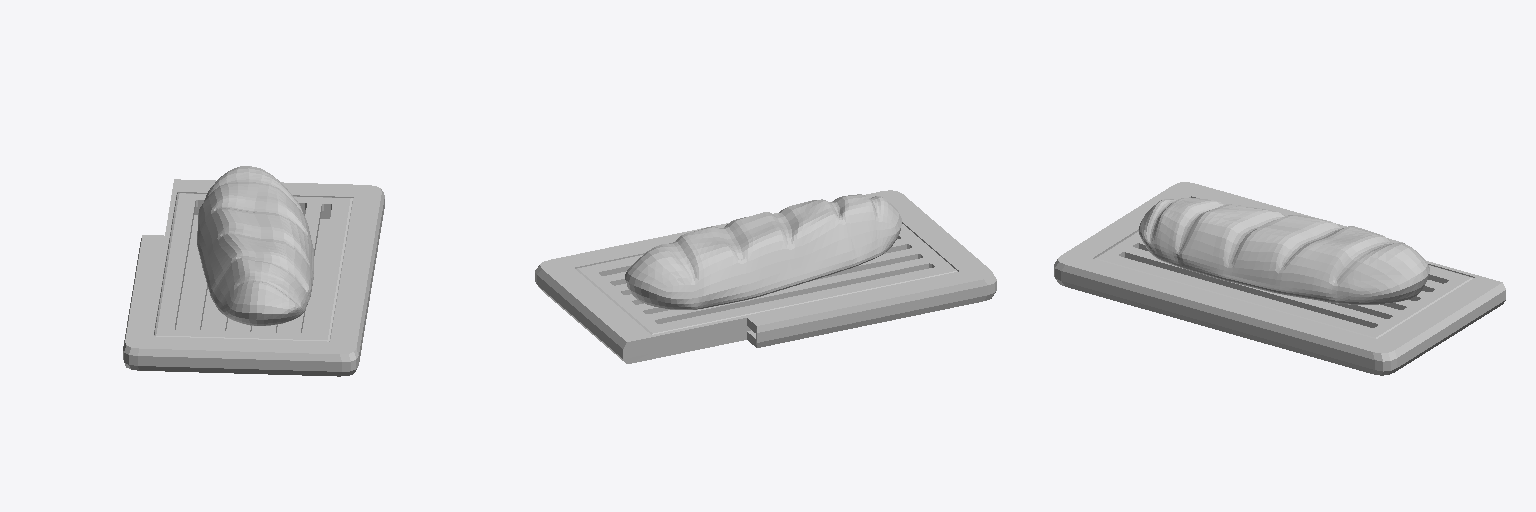
Rendered from bread_french.obj.
The picture shows the model from 3 angles: view 1: azimuth 30°, elevation 25°; view 2: azimuth 150°, elevation 25°; view 3: azimuth 270°, elevation 25°; orthographic projection.
Visible parts, largest first — view 1: cuttingboard.001_Mesh.015, bread.001_Mesh.014, top_of_cutting_board.001_Mesh.016; view 2: cuttingboard.001_Mesh.015, bread.001_Mesh.014, top_of_cutting_board.001_Mesh.016; view 3: bread.001_Mesh.014, cuttingboard.001_Mesh.015, top_of_cutting_board.001_Mesh.016.
Boxes of the visible parts, x1=… form: cuttingboard.001_Mesh.015: x1=123, y1=179, x2=384, y2=376; bread.001_Mesh.014: x1=197, y1=166, x2=313, y2=325; top_of_cutting_board.001_Mesh.016: x1=154, y1=193, x2=352, y2=341; cuttingboard.001_Mesh.015: x1=535, y1=190, x2=996, y2=363; bread.001_Mesh.014: x1=625, y1=194, x2=901, y2=309; top_of_cutting_board.001_Mesh.016: x1=576, y1=224, x2=957, y2=334; bread.001_Mesh.014: x1=1139, y1=197, x2=1429, y2=304; cuttingboard.001_Mesh.015: x1=1054, y1=182, x2=1505, y2=375; top_of_cutting_board.001_Mesh.016: x1=1094, y1=231, x2=1472, y2=338.
Bounding box in the file's own units: 0.1922 × 0.035 × 0.2102.